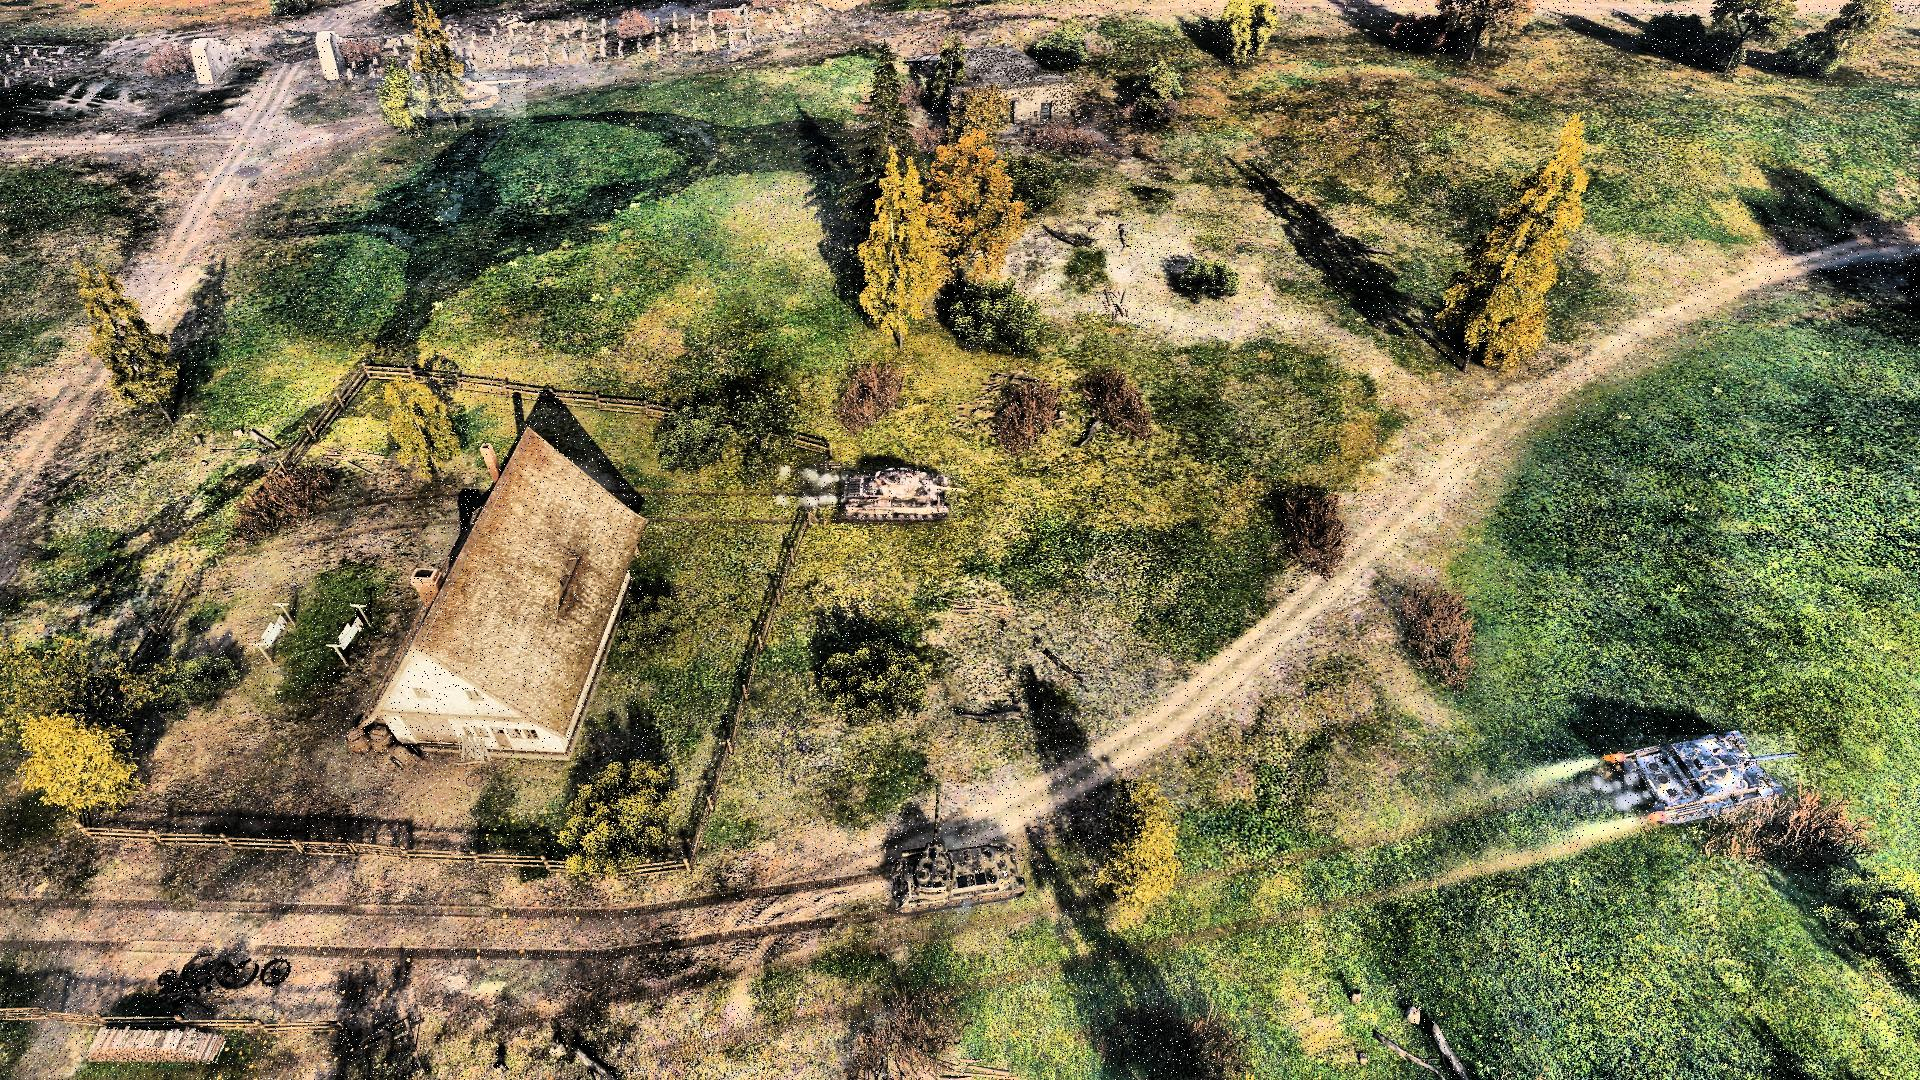military-vehicle: (886, 783, 1019, 911), (1625, 735, 1797, 823), (841, 467, 965, 520), (410, 73, 526, 117)
